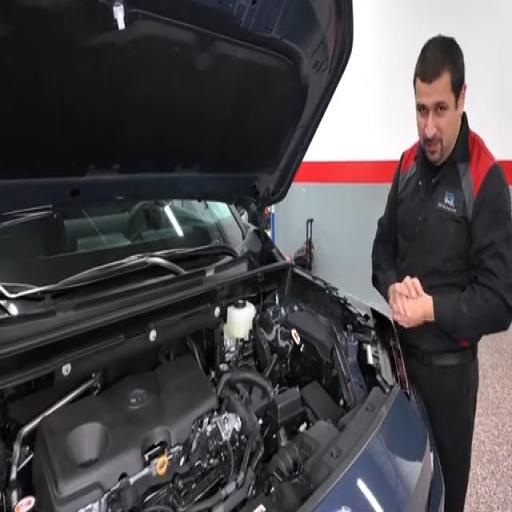bumper: (316, 393, 443, 511)
hood: (0, 0, 352, 211)
windshield: (0, 200, 243, 285)
